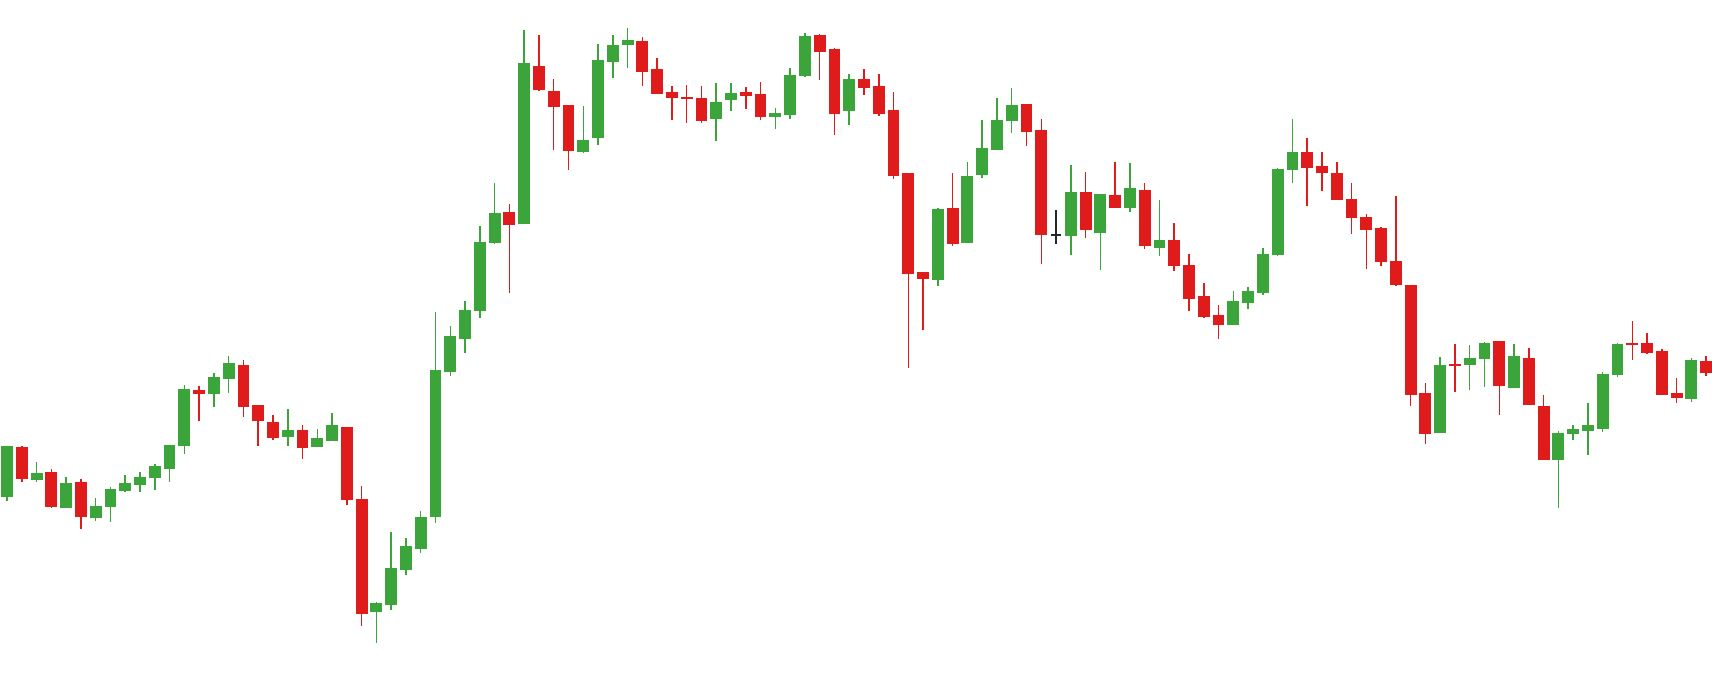buy: (1415, 373, 1568, 512)
sell: (1107, 118, 1316, 267), (510, 33, 652, 138)
